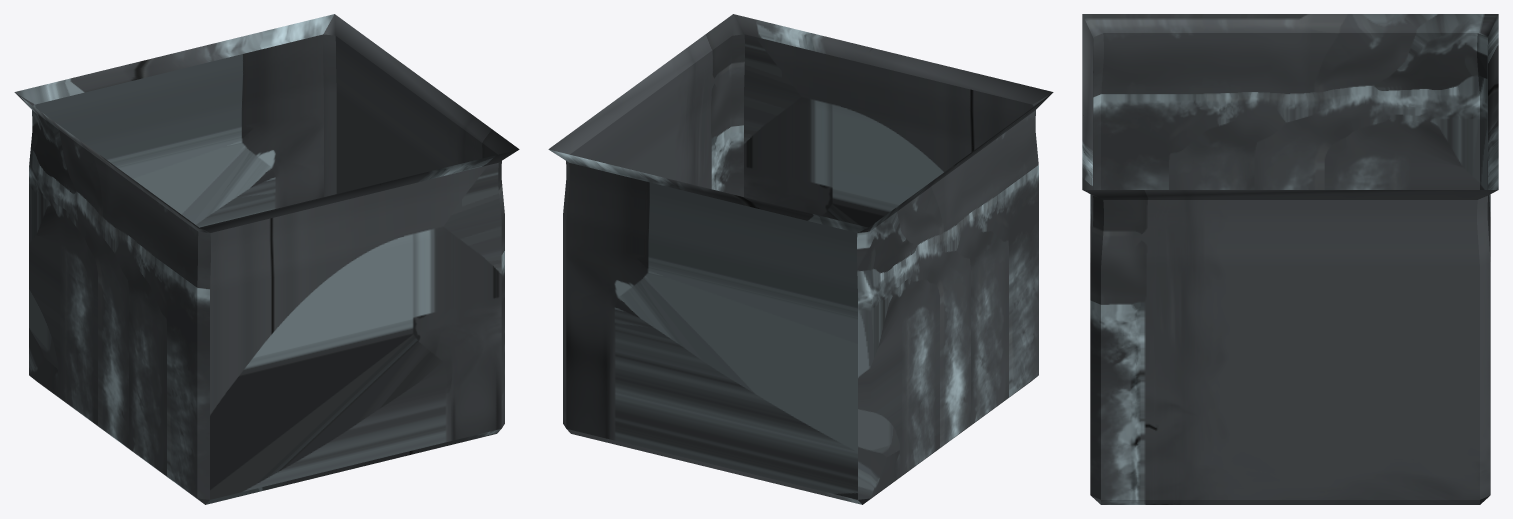
The model's file is hole.fbx.
The picture shows the model from 3 angles, left to right: view 1: azimuth 30°, elevation 25°; view 2: azimuth 150°, elevation 25°; view 3: azimuth 270°, elevation 25°; orthographic projection. The views are drawn at different scales.
Visible parts, largest first — view 1: pCube7; view 2: pCube7; view 3: pCube7.
Boxes of the visible parts, <box> form: pCube7: <box>14,14,519,504</box>; pCube7: <box>548,14,1053,504</box>; pCube7: <box>1082,14,1498,504</box>.
Bounding box in the file's own units: 4.16 × 3.56 × 4.16.
